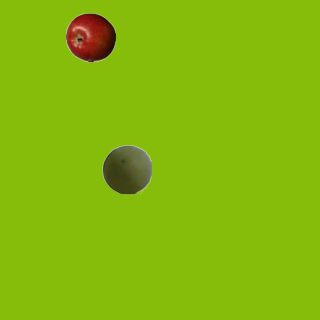Apple Braeburn: (65, 12, 115, 62)
Grape White 4: (101, 144, 151, 194)
